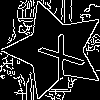X: (30, 25, 87, 81)
